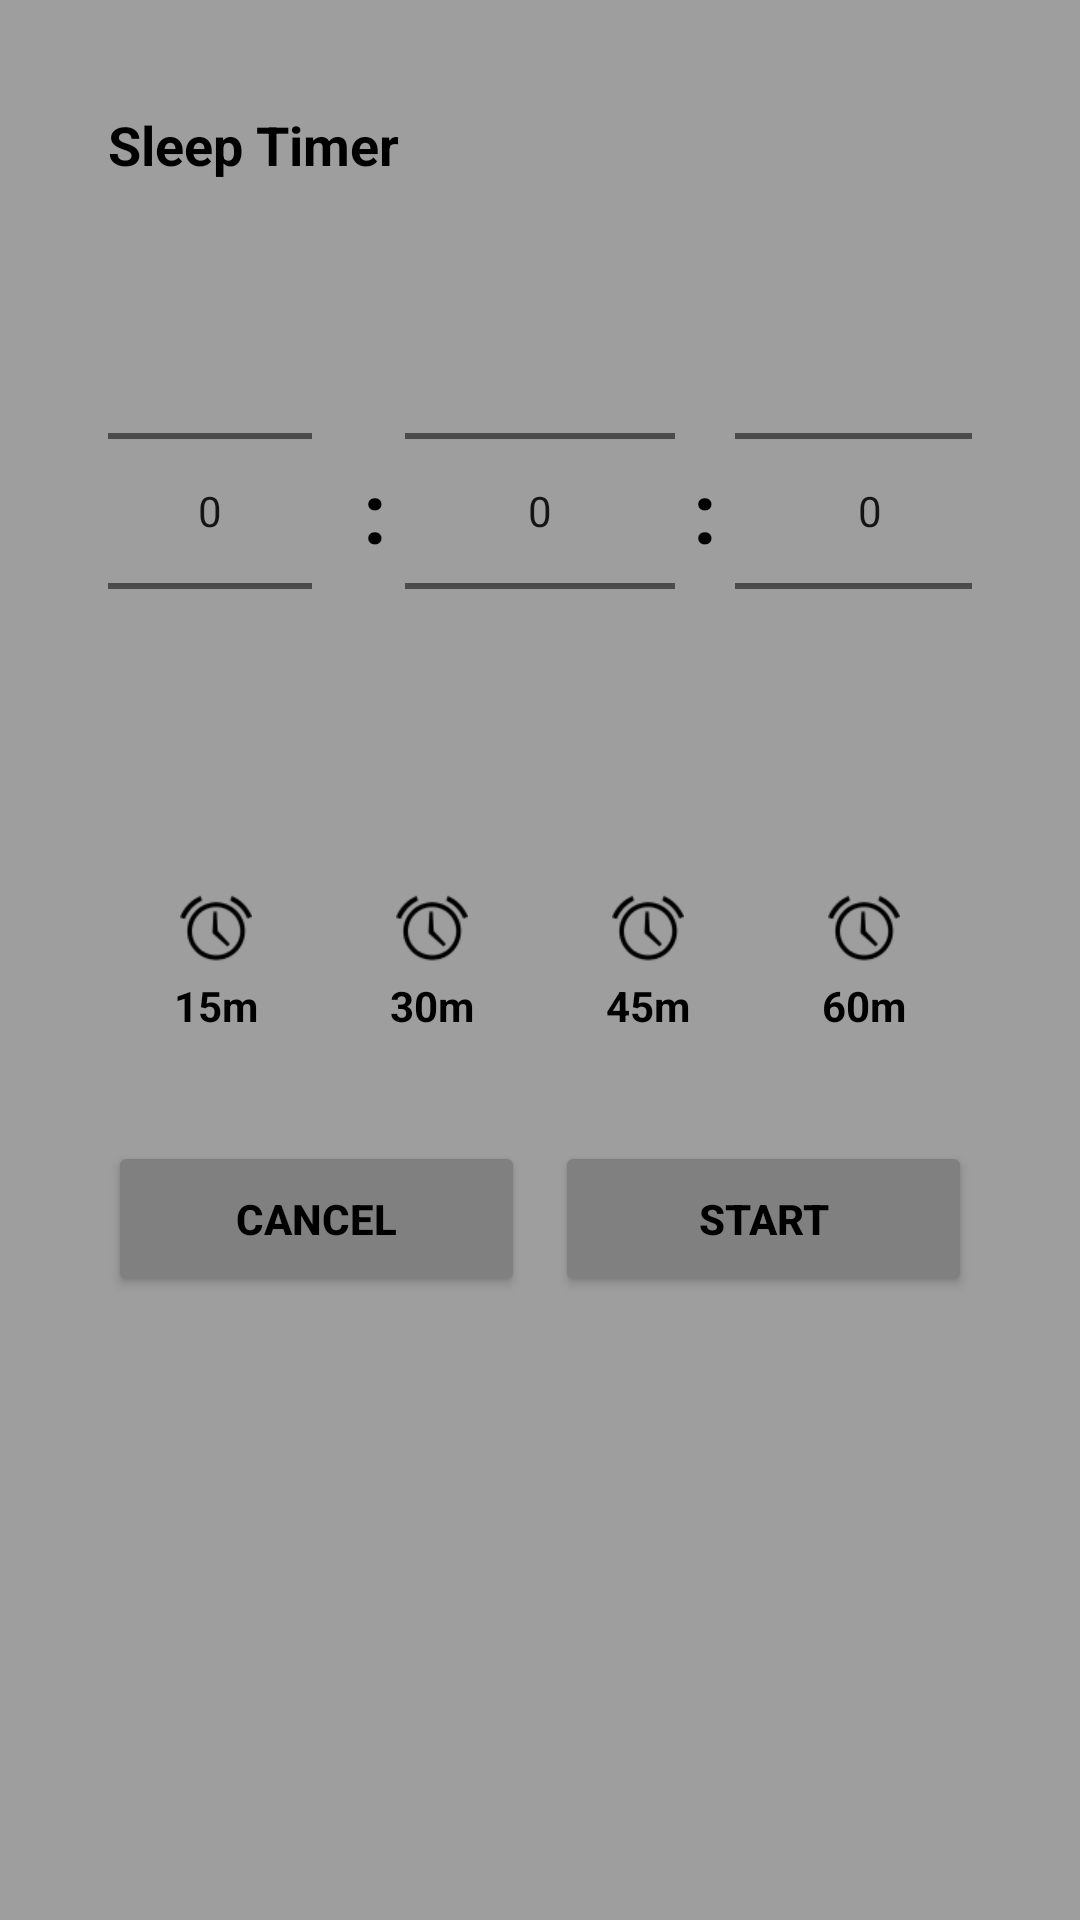

Point at icon controls on the screen. Image size 1080px×1920px, points as point (x, y).
lock idle alarm: point (216, 928), point (432, 928), point (648, 928), point (864, 928)
